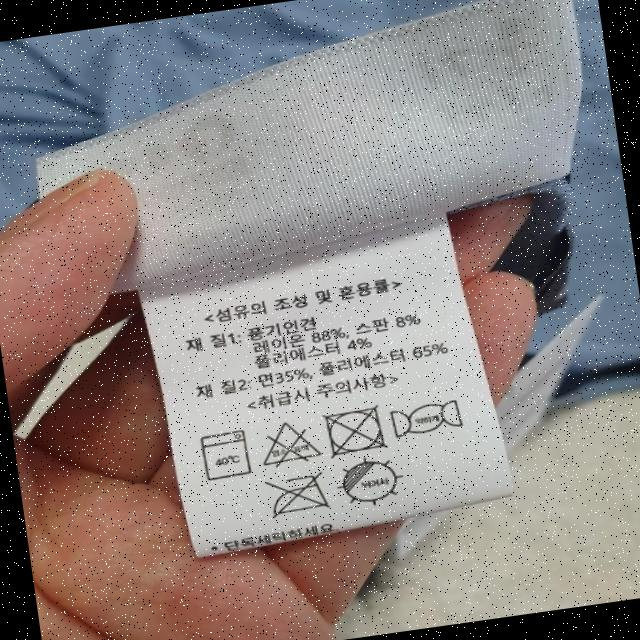KR_flat_dry_in_shade: (337, 457, 404, 507)
KR_gentle_wring: (391, 398, 463, 444)
KR_no_chlorine_bleach: (256, 416, 323, 471)
KR_no_iron: (265, 470, 334, 520)
KR_no_tumble_dry: (324, 408, 386, 459)
KR_wash_40: (197, 430, 254, 484)
